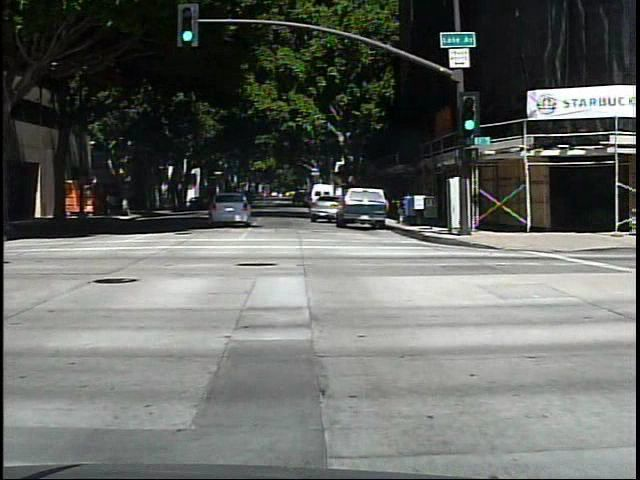person: (100, 185, 116, 220)
